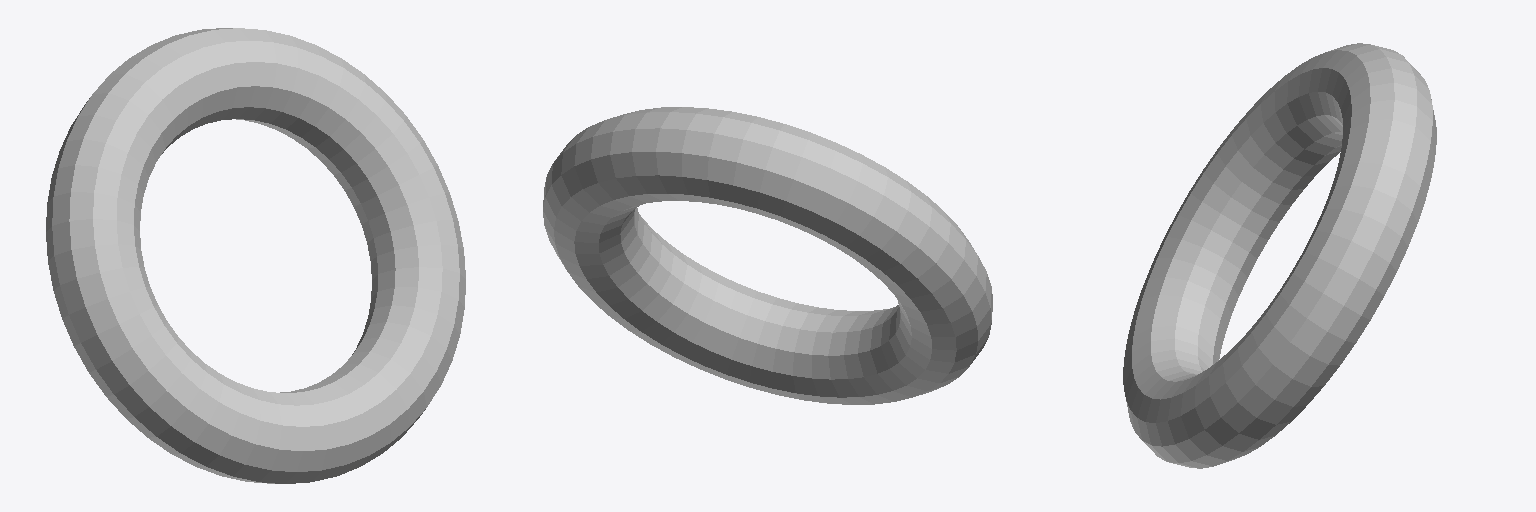
The model's file is TorusSection.obj.
The picture shows the model from 3 angles: view 1: azimuth 30°, elevation 25°; view 2: azimuth 150°, elevation 25°; view 3: azimuth 270°, elevation 25°; orthographic projection.
Visible parts, largest first — view 1: Torus; view 2: Torus; view 3: Torus.
Boxes of the visible parts, x1=… form: Torus: x1=46, y1=28, x2=465, y2=483; Torus: x1=543, y1=107, x2=992, y2=404; Torus: x1=1123, y1=43, x2=1436, y2=468.
Bounding box in the file's own units: 5.62 × 4.84 × 3.77.